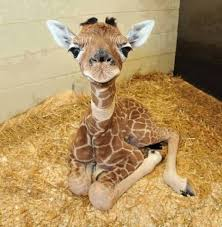Jirafa: (38, 5, 164, 125)
